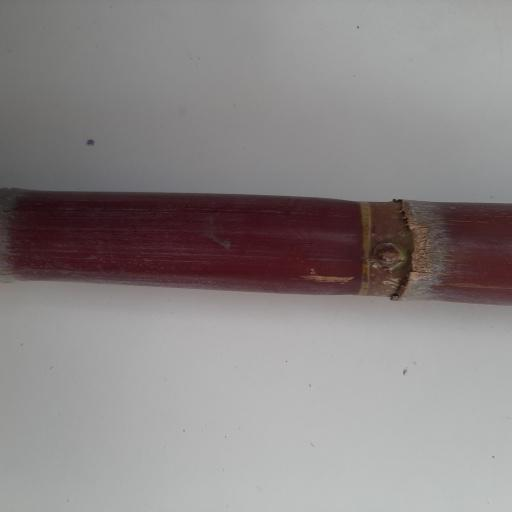Bud: (367, 242, 407, 270)
